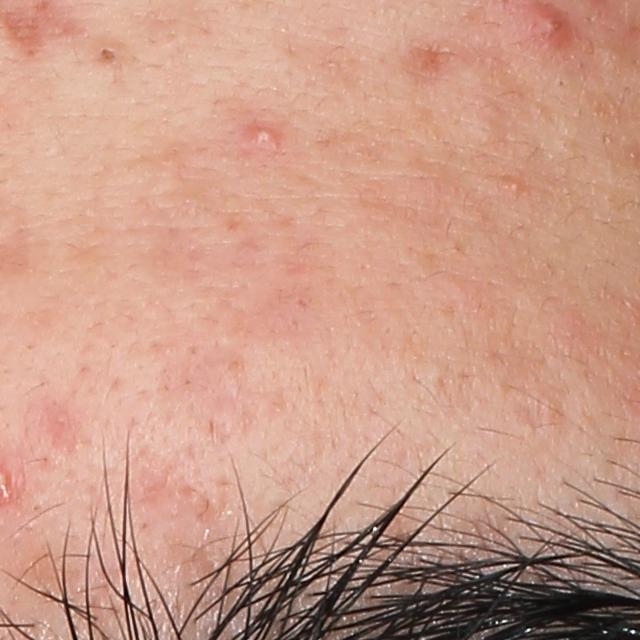comedo: (98, 44, 117, 62)
papule: (526, 5, 569, 54)
pustule: (247, 121, 281, 152)
